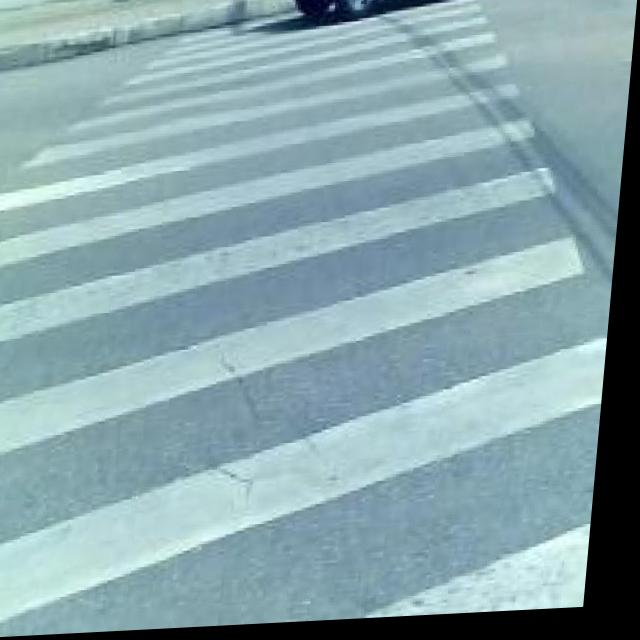zebra: (78, 32, 614, 635)
